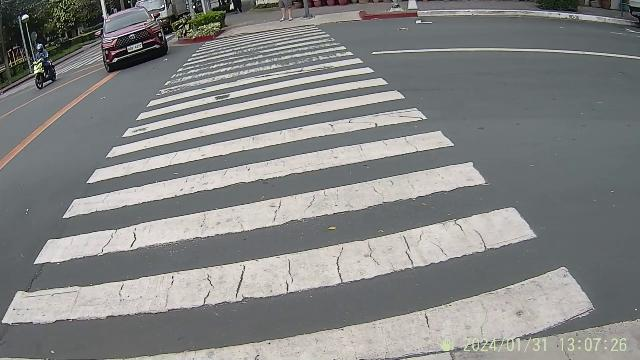car: (94, 10, 170, 66)
lamp_post: (21, 12, 33, 60)
